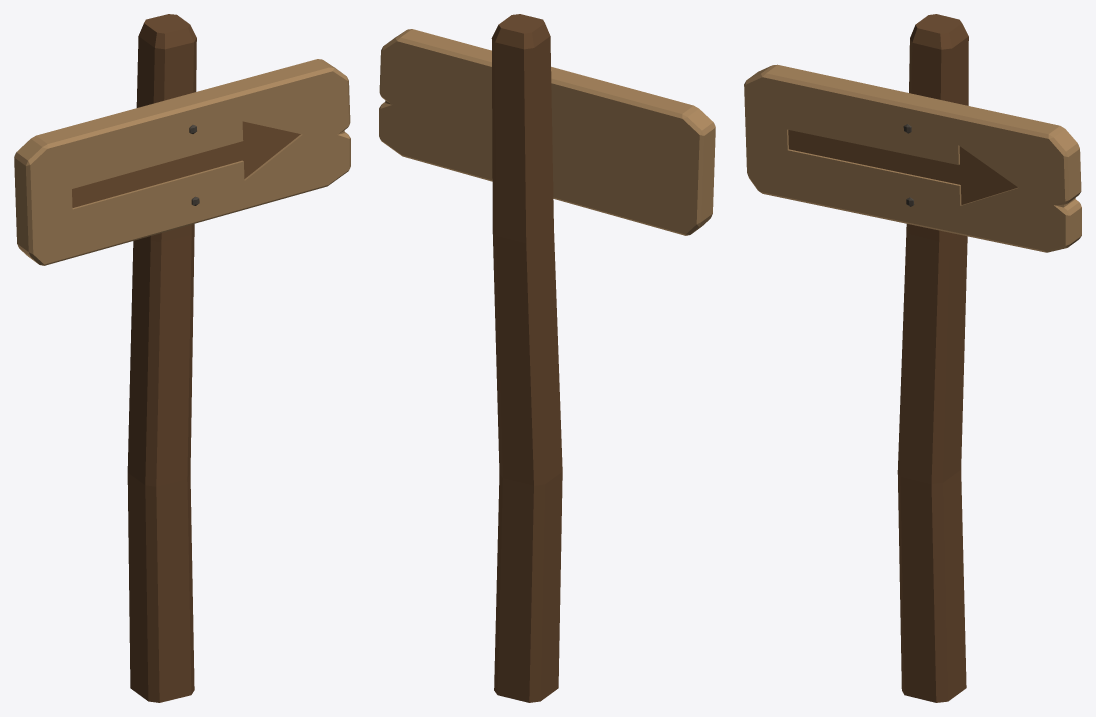
Rendered from signpost.glb.
3 renders of one model, left to right at view 1: azimuth 30°, elevation 25°; view 2: azimuth 150°, elevation 25°; view 3: azimuth 330°, elevation 25°, orthographic.
Parts seen in each view (by area): view 1: signpost; view 2: signpost; view 3: signpost.
Part boxes in pixels (x1=…): signpost: x1=14, y1=14, x2=350, y2=702; signpost: x1=379, y1=14, x2=715, y2=702; signpost: x1=744, y1=14, x2=1081, y2=702.
Size of the model in its own units: 0.5631 by 1.1 by 0.1285.
